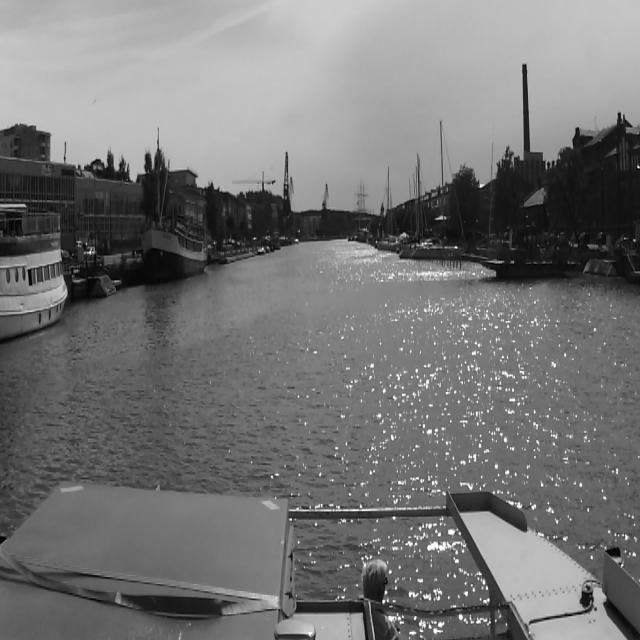ship: (400, 121, 468, 259), (0, 199, 68, 337), (478, 242, 580, 280), (144, 226, 208, 279)
